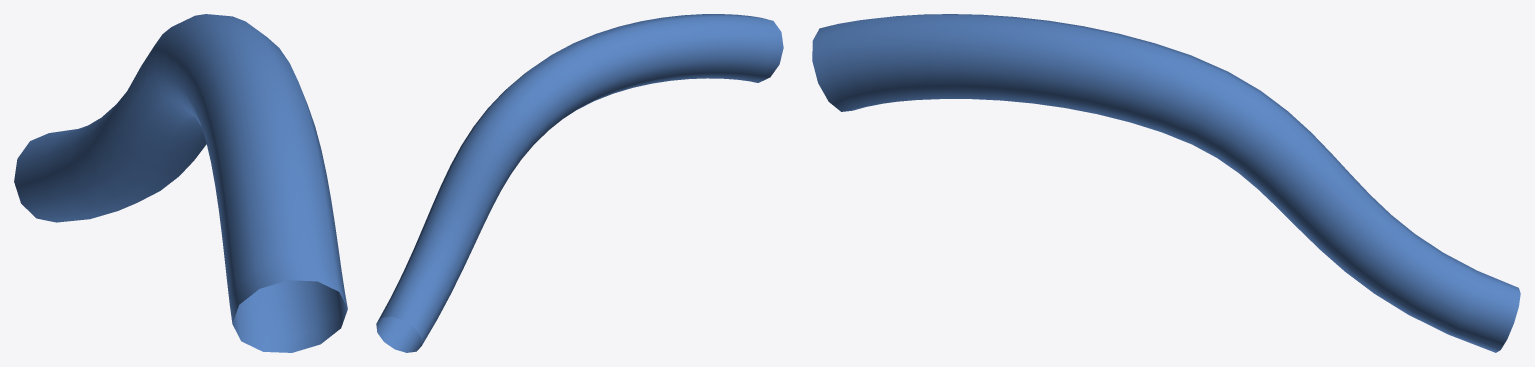
3 renders of one model, left to right at view 1: azimuth 30°, elevation 25°; view 2: azimuth 150°, elevation 25°; view 3: azimuth 270°, elevation 25°, orthographic. The views are drawn at different scales.
Visible parts, largest first — view 1: 左侧髂外静脉; view 2: 左侧髂外静脉; view 3: 左侧髂外静脉.
Part boxes in pixels (x1,y1,x2,y2): 左侧髂外静脉: (14,14,347,352); 左侧髂外静脉: (376,14,783,352); 左侧髂外静脉: (812,14,1520,352).
Size of the model in its own units: 0.0551 by 0.0683 by 0.1512.
